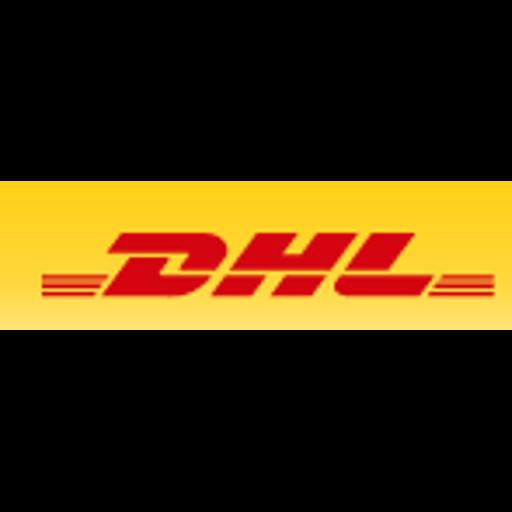DHL: (0, 181, 512, 330)
